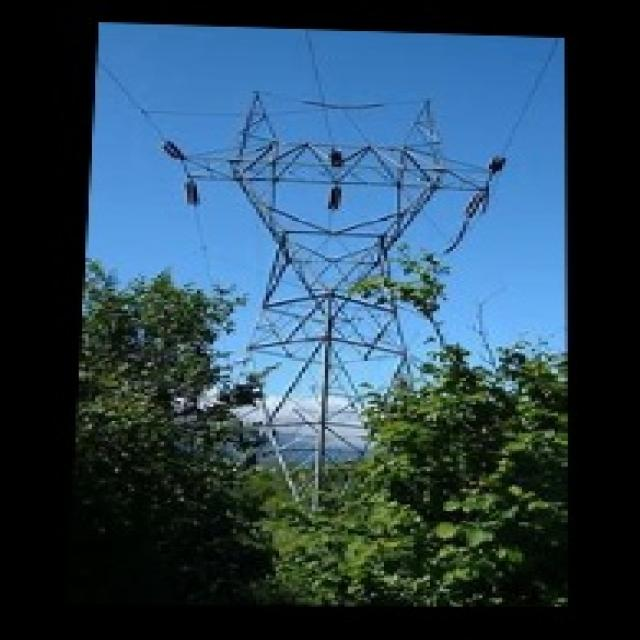utility poles: (355, 252, 566, 430), (158, 264, 328, 444)
